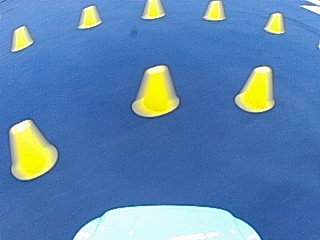cone: (8, 118, 56, 180), (132, 63, 179, 117), (235, 65, 275, 113), (77, 4, 102, 29), (10, 25, 33, 51), (263, 12, 285, 34), (203, 0, 225, 21), (141, 0, 164, 19)
